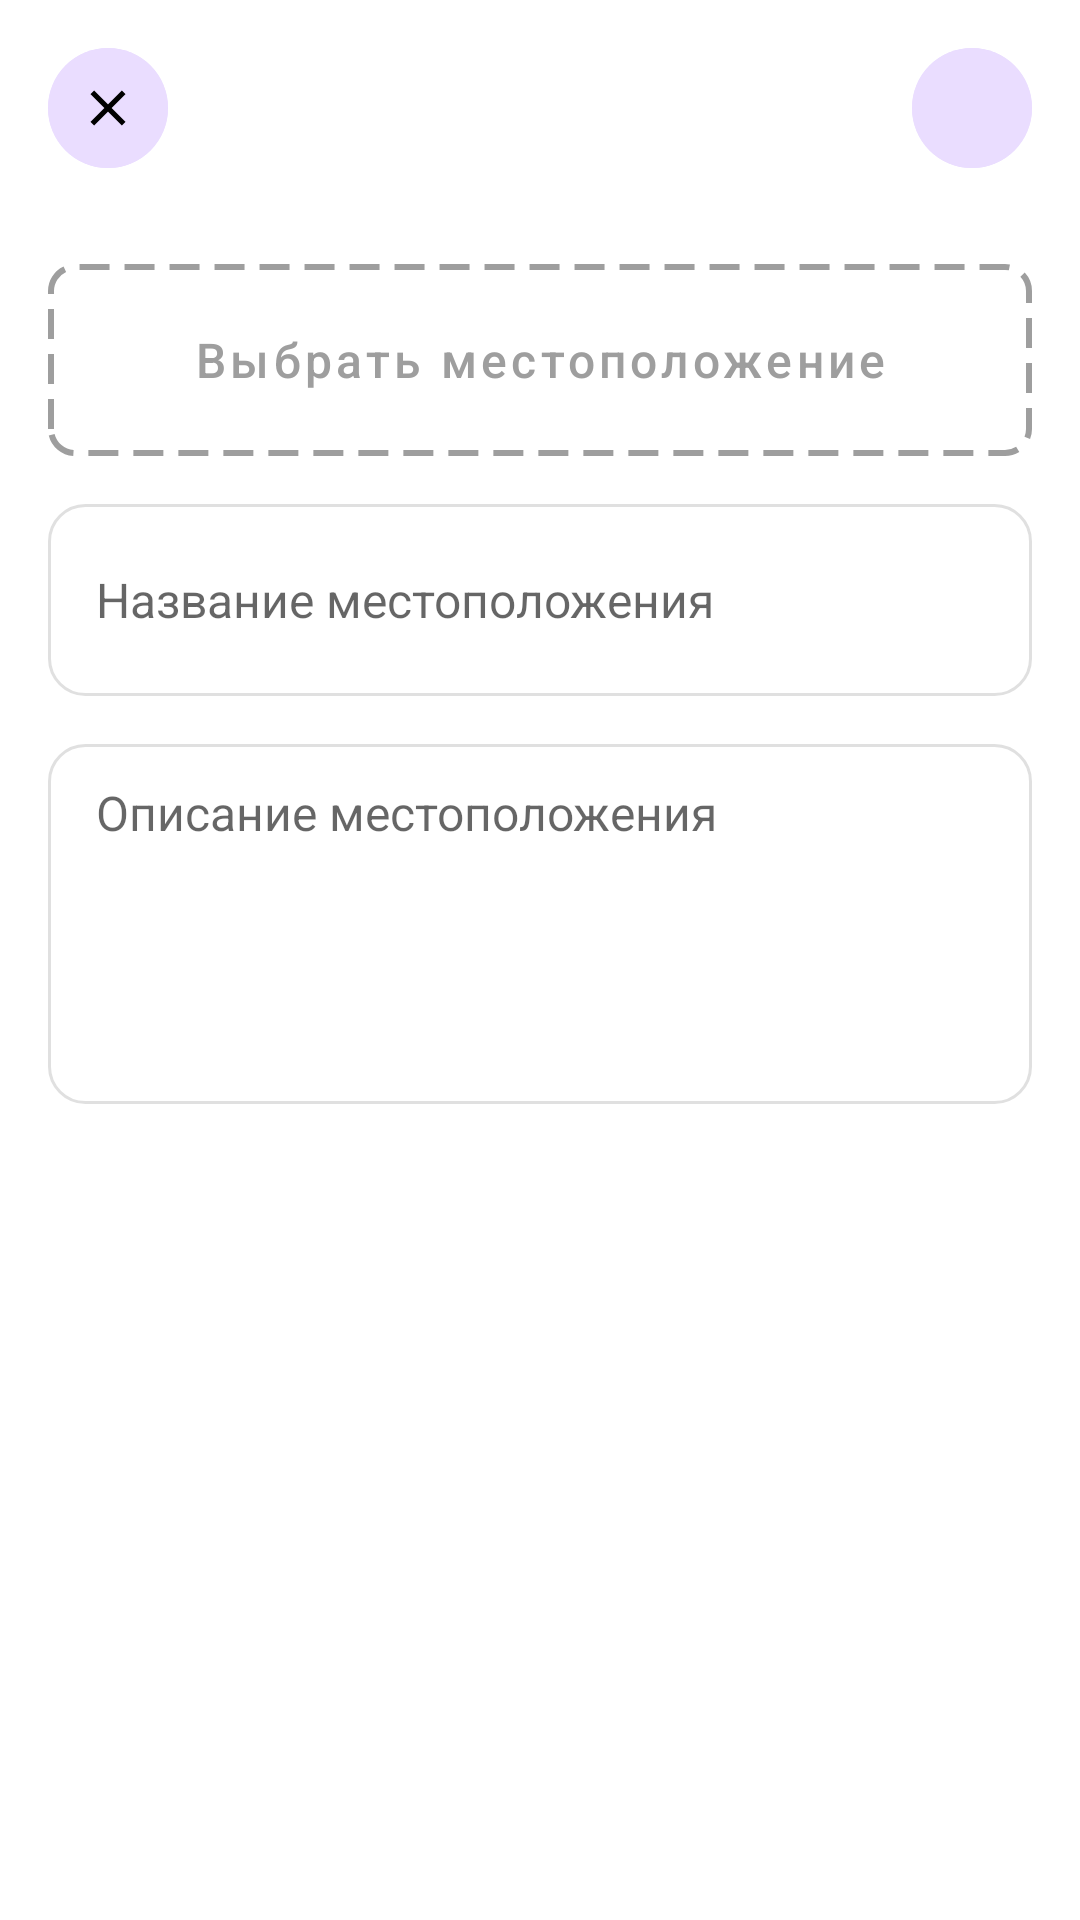

Named icons in this screenshot (1080w x 1920h) and their bounding boxes, [left=x1, top=y1, right=x2, bottom=y2]:
close: [left=48, top=48, right=168, bottom=168]
